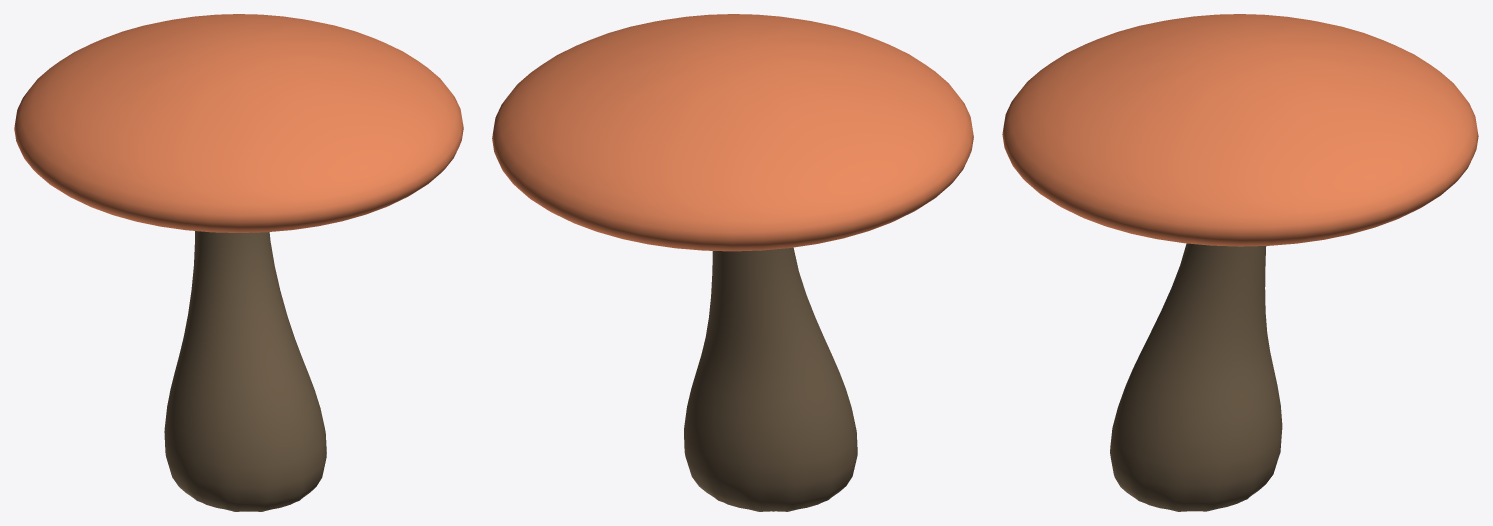
Rendered from champi_orange.fbx.
3 views of the same model, side by side, from view 1: azimuth 30°, elevation 25°; view 2: azimuth 150°, elevation 25°; view 3: azimuth 270°, elevation 25° (orthographic). The views are drawn at different scales.
Parts seen in each view (by area): view 1: Circle.006, Circle.005; view 2: Circle.006, Circle.005; view 3: Circle.006, Circle.005.
Boxes of the visible parts, bbox=[...] form: Circle.006: bbox=[14, 14, 463, 232]; Circle.005: bbox=[164, 231, 326, 511]; Circle.006: bbox=[492, 14, 973, 251]; Circle.005: bbox=[684, 247, 857, 511]; Circle.006: bbox=[1002, 14, 1478, 246]; Circle.005: bbox=[1110, 243, 1282, 511].
Bounding box in the file's own units: 226 × 238 × 227.
